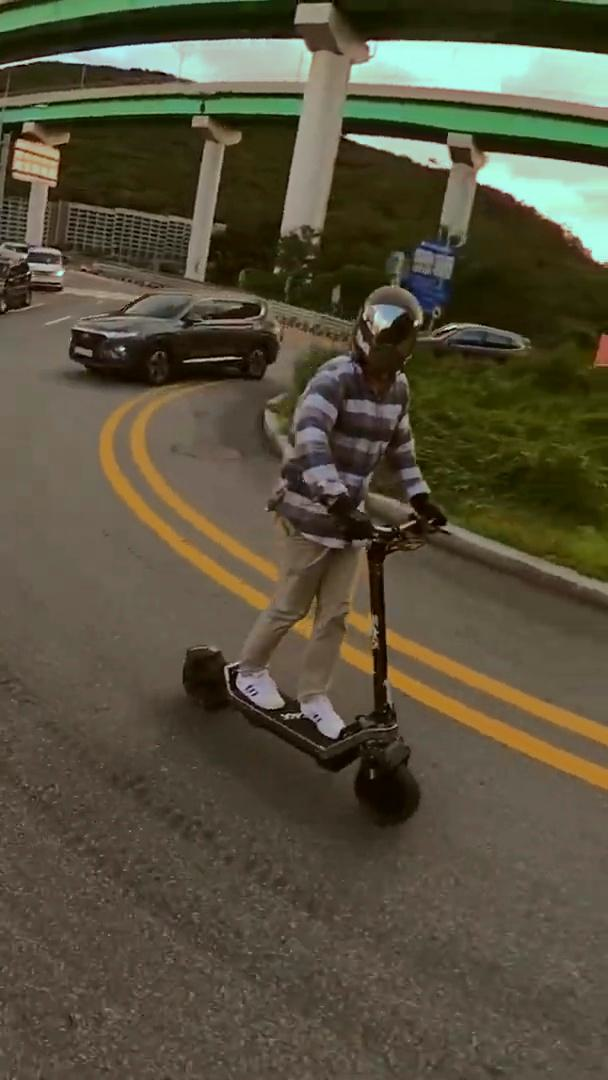helmet: (180, 283, 456, 833)
